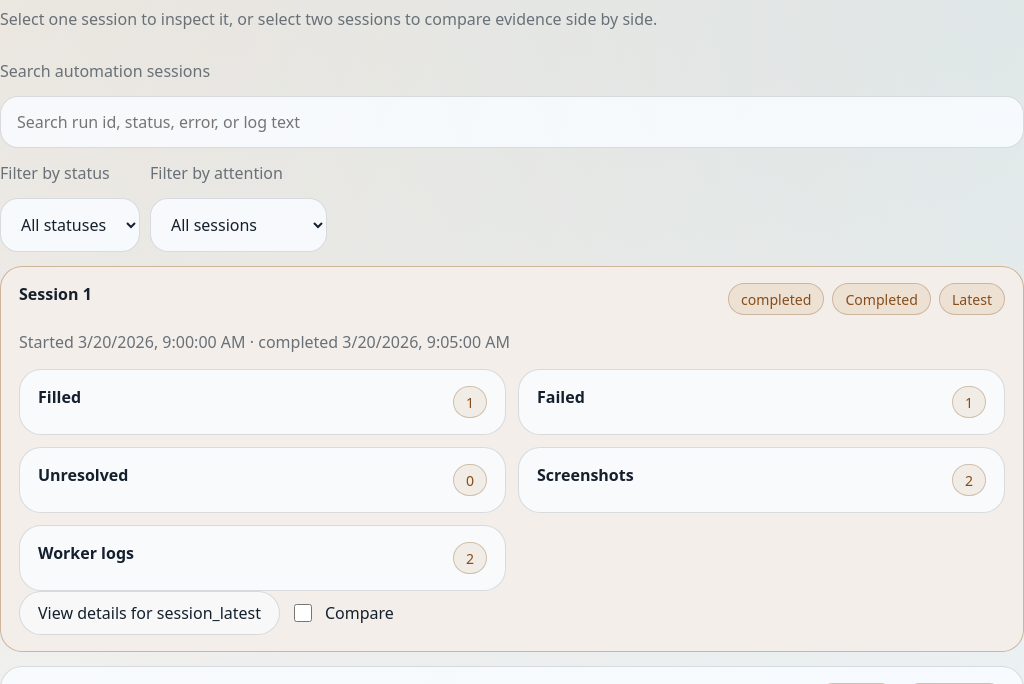
it: AutomationSessionHistory › switches to compare mode when two sessions are selected
This screenshot has width=1024, height=684.
Step 1. Click the checkbox named "Compare session session_latest" → (303, 613), box [294,604,312,622]
(page scrolled)
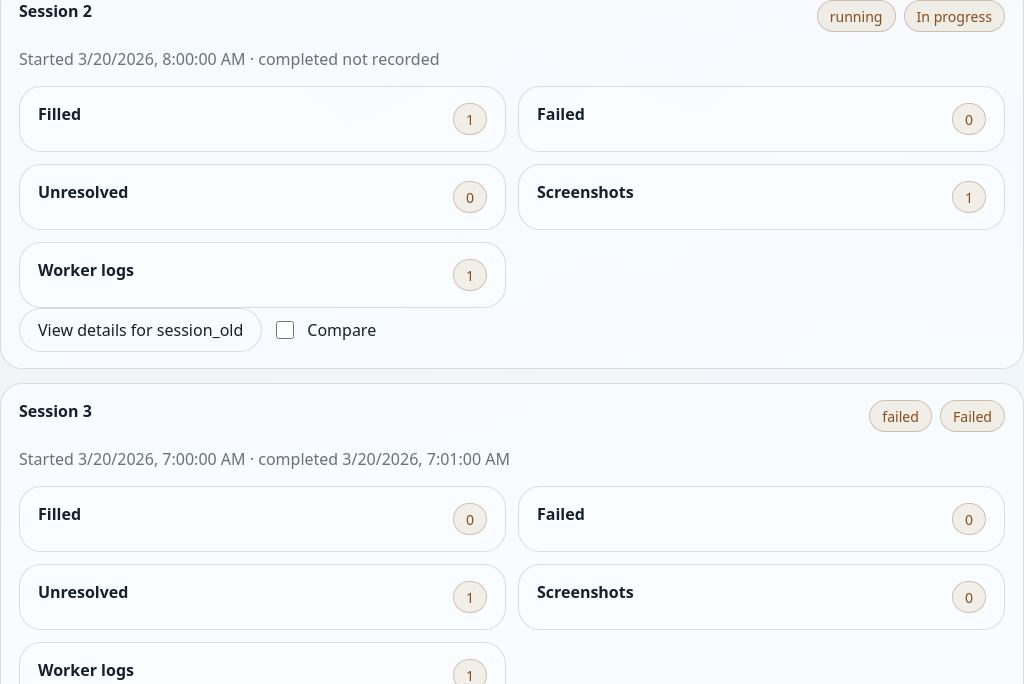
Step 2. Click the checkbox named "Compare session session_old" → (285, 330), box [276,321,294,339]
(page scrolled)
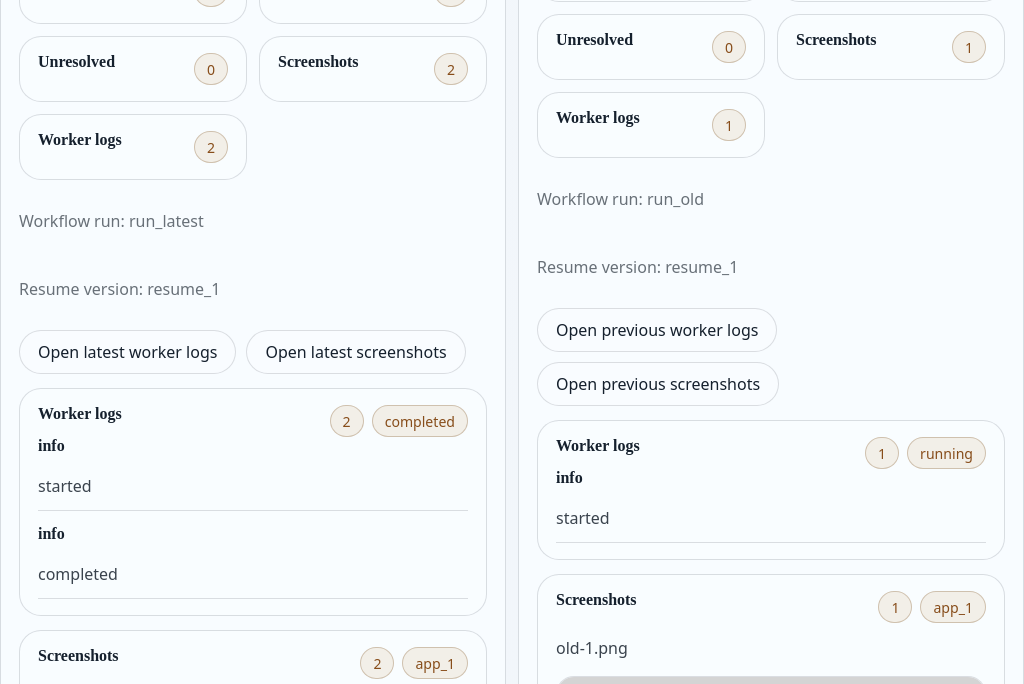
Now the number of links "Open latest screenshots" is 2, box [246,330,466,374]; [537,362,779,406]
